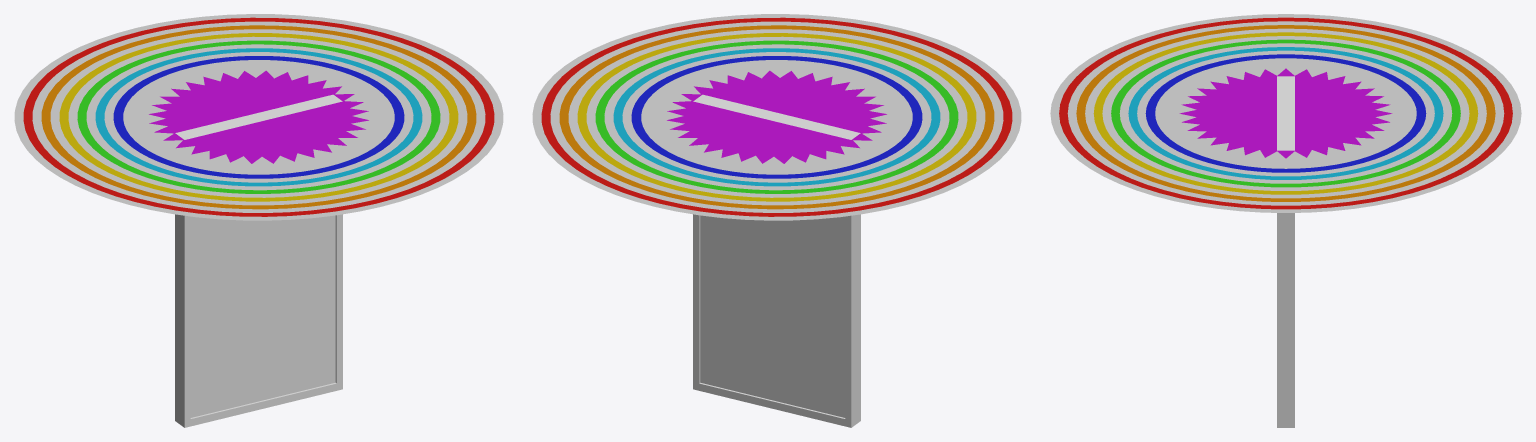
File: Центр.fbx
The picture shows the model from 3 angles, left to right: view 1: azimuth 30°, elevation 25°; view 2: azimuth 150°, elevation 25°; view 3: azimuth 270°, elevation 25°; orthographic projection. The views are drawn at different scales.
Visible parts, largest first — view 1: Окружность, Куб; view 2: Окружность, Куб; view 3: Окружность, Куб.
Boxes of the visible parts, x1,y1,x2,y2 form: Окружность: [14, 14, 503, 220]; Куб: [175, 94, 342, 427]; Окружность: [532, 14, 1021, 220]; Куб: [693, 94, 860, 427]; Окружность: [1050, 14, 1521, 212]; Куб: [1277, 76, 1294, 427].
Bounding box in the file's own units: 462 × 300 × 462.
